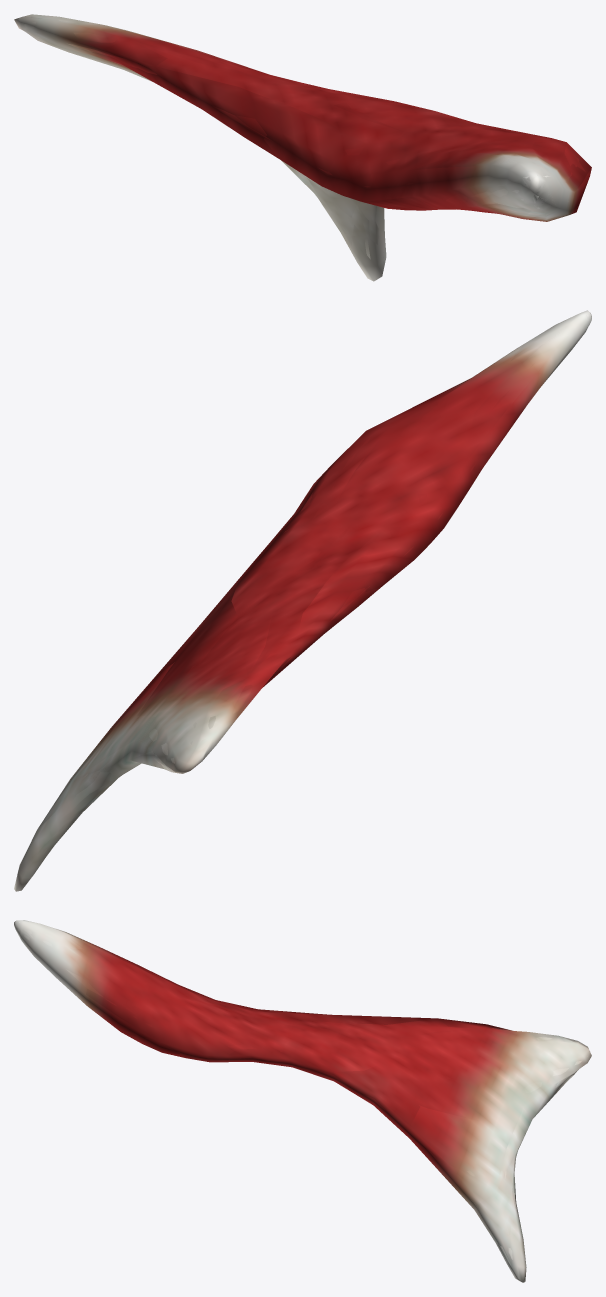
The model's file is L Rhomboideus Thoracicus.fbx.
3 renders of one model, top to bottom at view 1: azimuth 30°, elevation 25°; view 2: azimuth 150°, elevation 25°; view 3: azimuth 270°, elevation 25°, orthographic. The views are drawn at different scales.
Parts seen in each view (by area): view 1: L Rhomboideus Thoracicus low, L Rhomboideus Thoracicus, L Rhomboideus Thoracicus high; view 2: L Rhomboideus Thoracicus, L Rhomboideus Thoracicus low, L Rhomboideus Thoracicus high; view 3: L Rhomboideus Thoracicus, L Rhomboideus Thoracicus low, L Rhomboideus Thoracicus high.
Boxes of the visible parts, x1,y1,x2,y2 form: L Rhomboideus Thoracicus low: (18,14,591,262); L Rhomboideus Thoracicus: (14,14,591,281); L Rhomboideus Thoracicus high: (24,19,583,257); L Rhomboideus Thoracicus: (14,310,591,891); L Rhomboideus Thoracicus low: (19,315,591,874); L Rhomboideus Thoracicus high: (42,314,589,855); L Rhomboideus Thoracicus: (14,920,591,1282); L Rhomboideus Thoracicus low: (21,927,587,1281); L Rhomboideus Thoracicus high: (14,922,587,1259).
Bounding box in the file's own units: 2.06 × 3.21 × 5.97.
